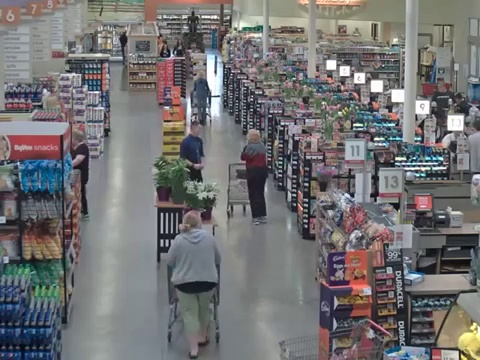face: (195, 125, 202, 135)
